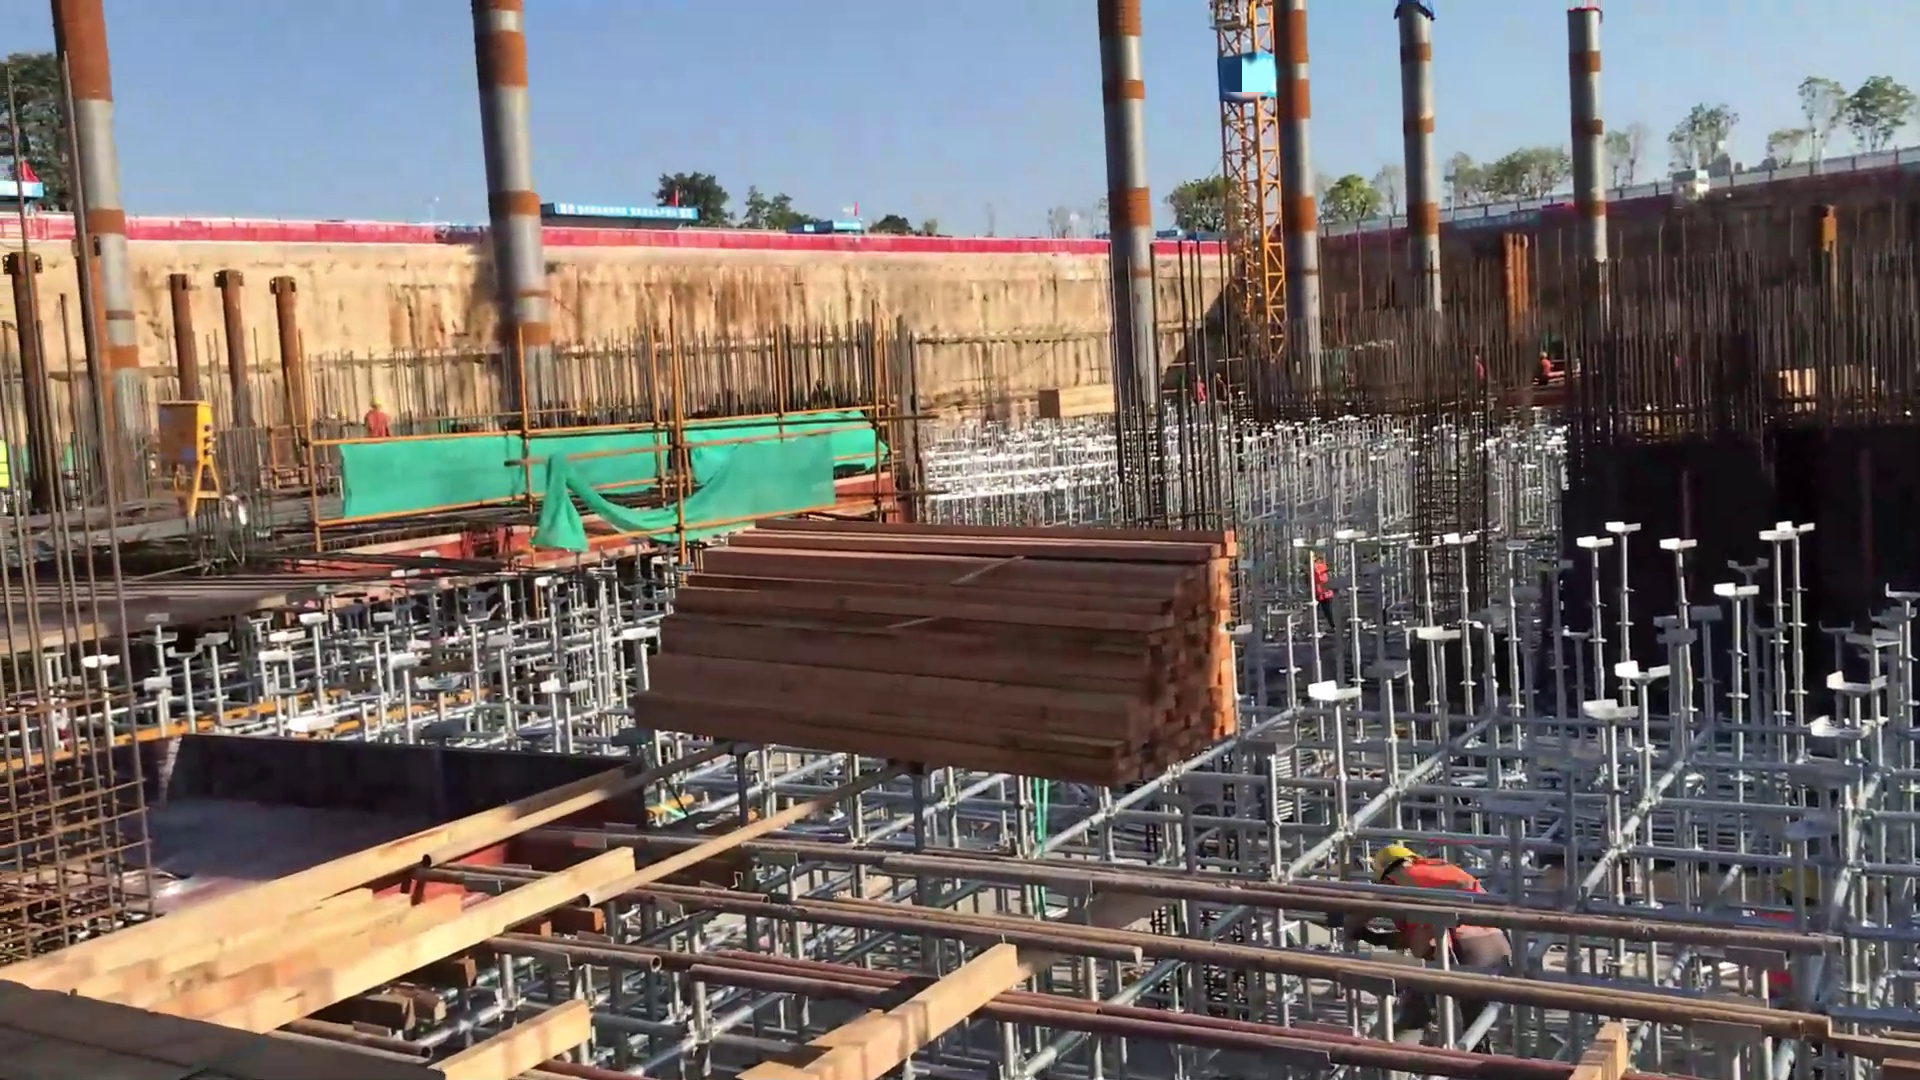ebox: (150, 388, 231, 522)
helmet: (1369, 835, 1436, 885)
vest: (1379, 853, 1495, 942)
wood: (622, 489, 1279, 796)
